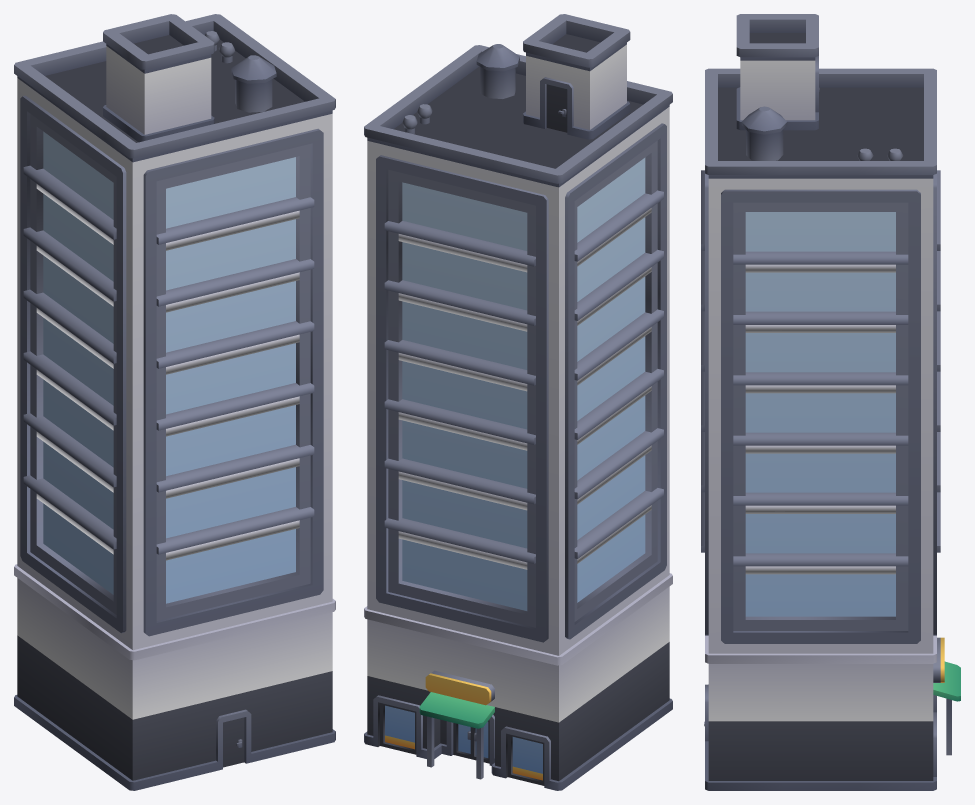
The model's file is building-skyscraper-c.glb.
The picture shows the model from 3 angles, left to right: view 1: azimuth 30°, elevation 25°; view 2: azimuth 150°, elevation 25°; view 3: azimuth 270°, elevation 25°; orthographic projection. The views are drawn at different scales.
Visible parts, largest first — view 1: building-skyscraper-c; view 2: building-skyscraper-c; view 3: building-skyscraper-c.
Boxes of the visible parts, bbox=[...] form: building-skyscraper-c: bbox=[14, 14, 335, 790]; building-skyscraper-c: bbox=[364, 14, 672, 790]; building-skyscraper-c: bbox=[701, 14, 960, 790].
Size of the model in its own units: 1.28 by 4.08 by 1.39.
1 material, 1 textured.
